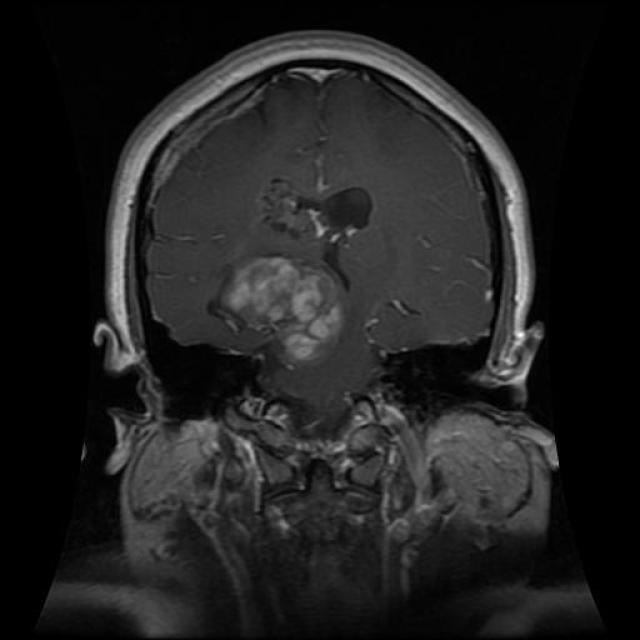glioma: (215, 254, 345, 378)
